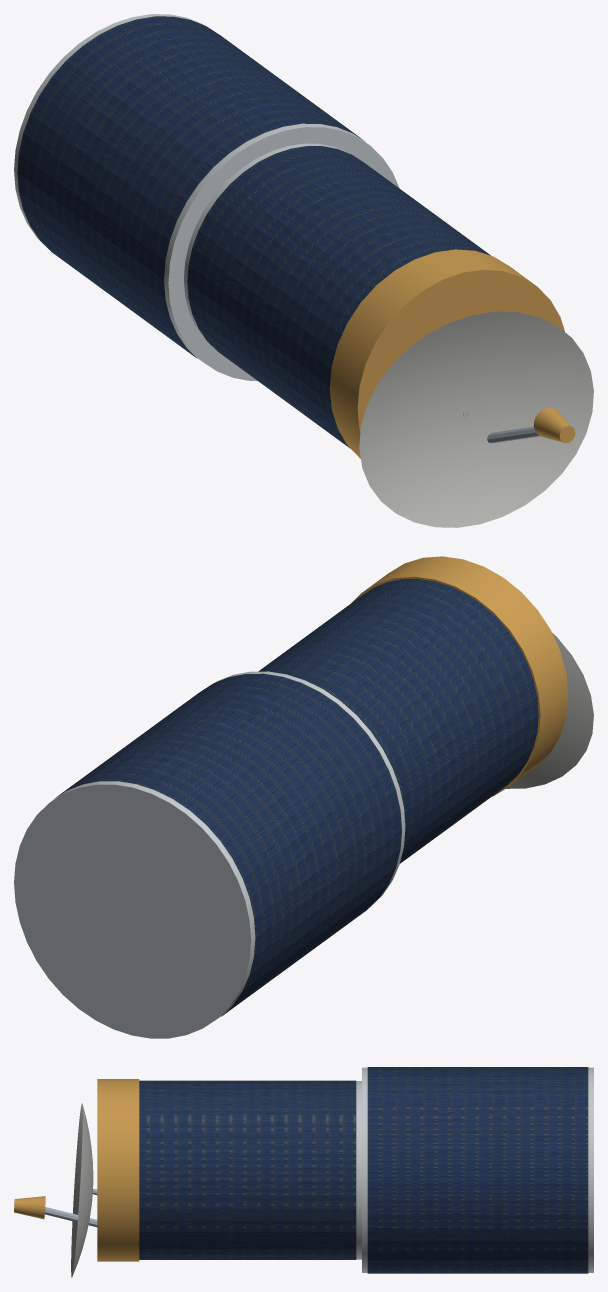
3 renders of one model, top to bottom at view 1: azimuth 30°, elevation 25°; view 2: azimuth 150°, elevation 25°; view 3: azimuth 270°, elevation 25°, orthographic. The views are drawn at different scales.
Visible parts, largest first — view 1: Body-mounted solar cells (×2), Deck-mounted reflector, Despun equipment deck, Solar drum core (×2), Feed horn; view 2: Body-mounted solar cells (×2), Solar drum core, Despun equipment deck, Deck-mounted reflector; view 3: Body-mounted solar cells (×2), Despun equipment deck, Solar drum core (×2), Deck-mounted reflector, Feed horn, Offset feed boom.
Boxes of the visible parts, box(x1,y1,x2,y2) form: Body-mounted solar cells (×2): box(17, 16, 490, 447); Deck-mounted reflector: box(359, 311, 593, 527); Despun equipment deck: box(329, 249, 564, 458); Solar drum core (×2): box(14, 14, 399, 380); Feed horn: box(533, 407, 575, 443); Body-mounted solar cells (×2): box(54, 579, 538, 1016); Solar drum core: box(14, 671, 405, 1038); Despun equipment deck: box(352, 556, 568, 796); Deck-mounted reflector: box(506, 633, 593, 788); Body-mounted solar cells (×2): box(139, 1067, 588, 1273); Despun equipment deck: box(97, 1079, 139, 1261); Solar drum core (×2): box(356, 1067, 593, 1272); Deck-mounted reflector: box(71, 1103, 93, 1277); Feed horn: box(14, 1196, 45, 1219); Offset feed boom: box(45, 1207, 97, 1227).
Size of the model in its own units: 2.21 by 2.24 by 6.2.
5 materials, 1 textured.
